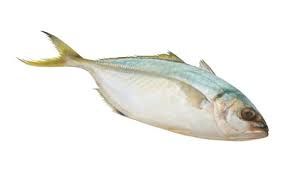Ikan Selar: (25, 34, 269, 142)
